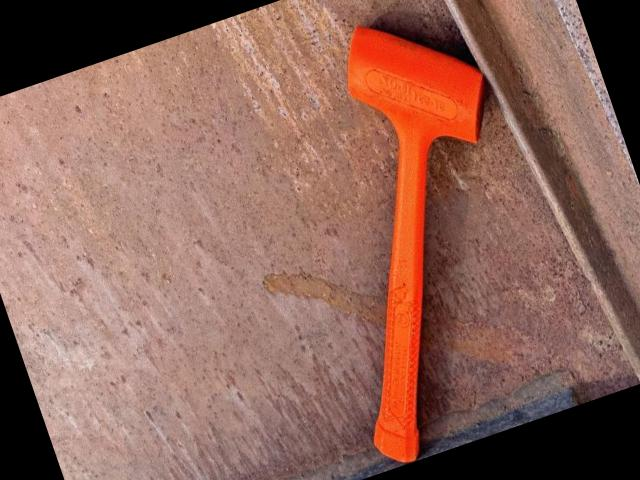hammer: (244, 0, 597, 470)
